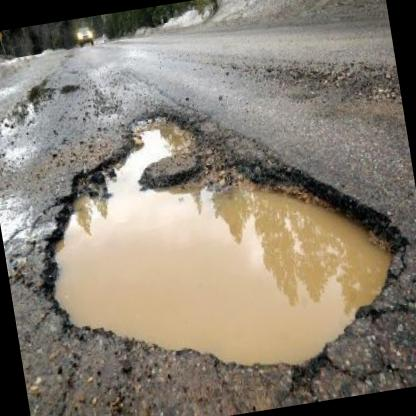pothole: (14, 71, 416, 410)
